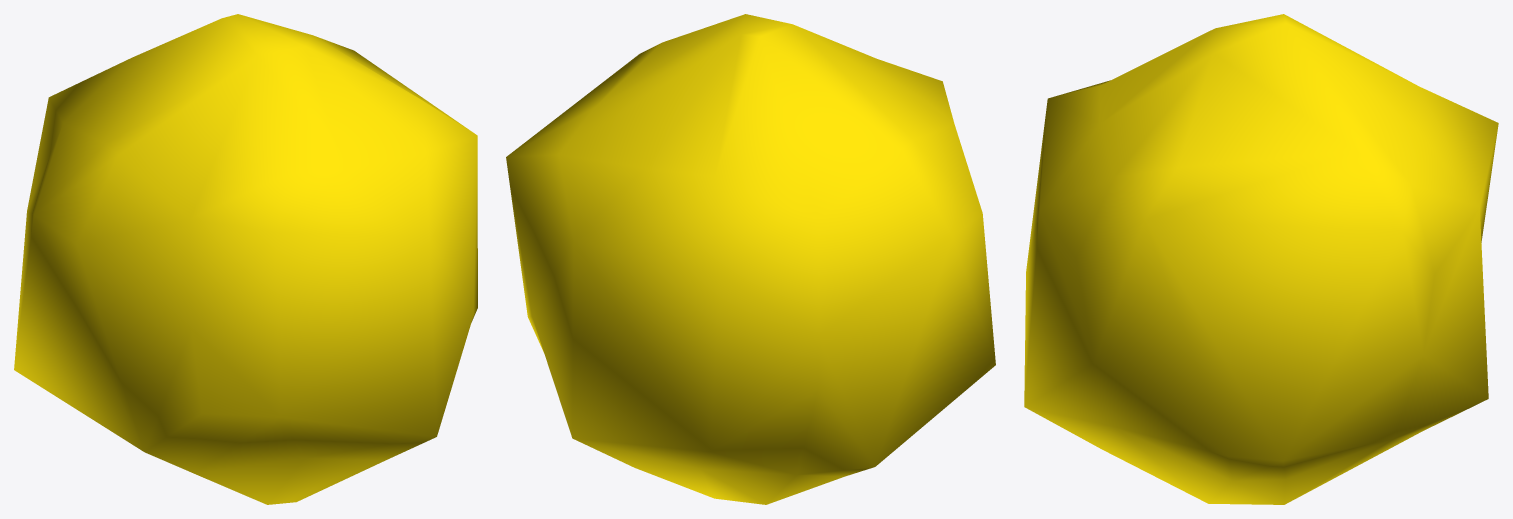
Rendered from MSH_Sodium.fbx.
The picture shows the model from 3 angles, left to right: view 1: azimuth 30°, elevation 25°; view 2: azimuth 150°, elevation 25°; view 3: azimuth 270°, elevation 25°; orthographic projection. The views are drawn at different scales.
Visible parts, largest first — view 1: MSH_Sodium; view 2: MSH_Sodium; view 3: MSH_Sodium.
Boxes of the visible parts, x1,y1,x2,y2 form: MSH_Sodium: (14, 14, 477, 504); MSH_Sodium: (506, 14, 995, 504); MSH_Sodium: (1024, 14, 1498, 504).
Size of the model in its own units: 0.0979 by 0.0954 by 0.1046.
